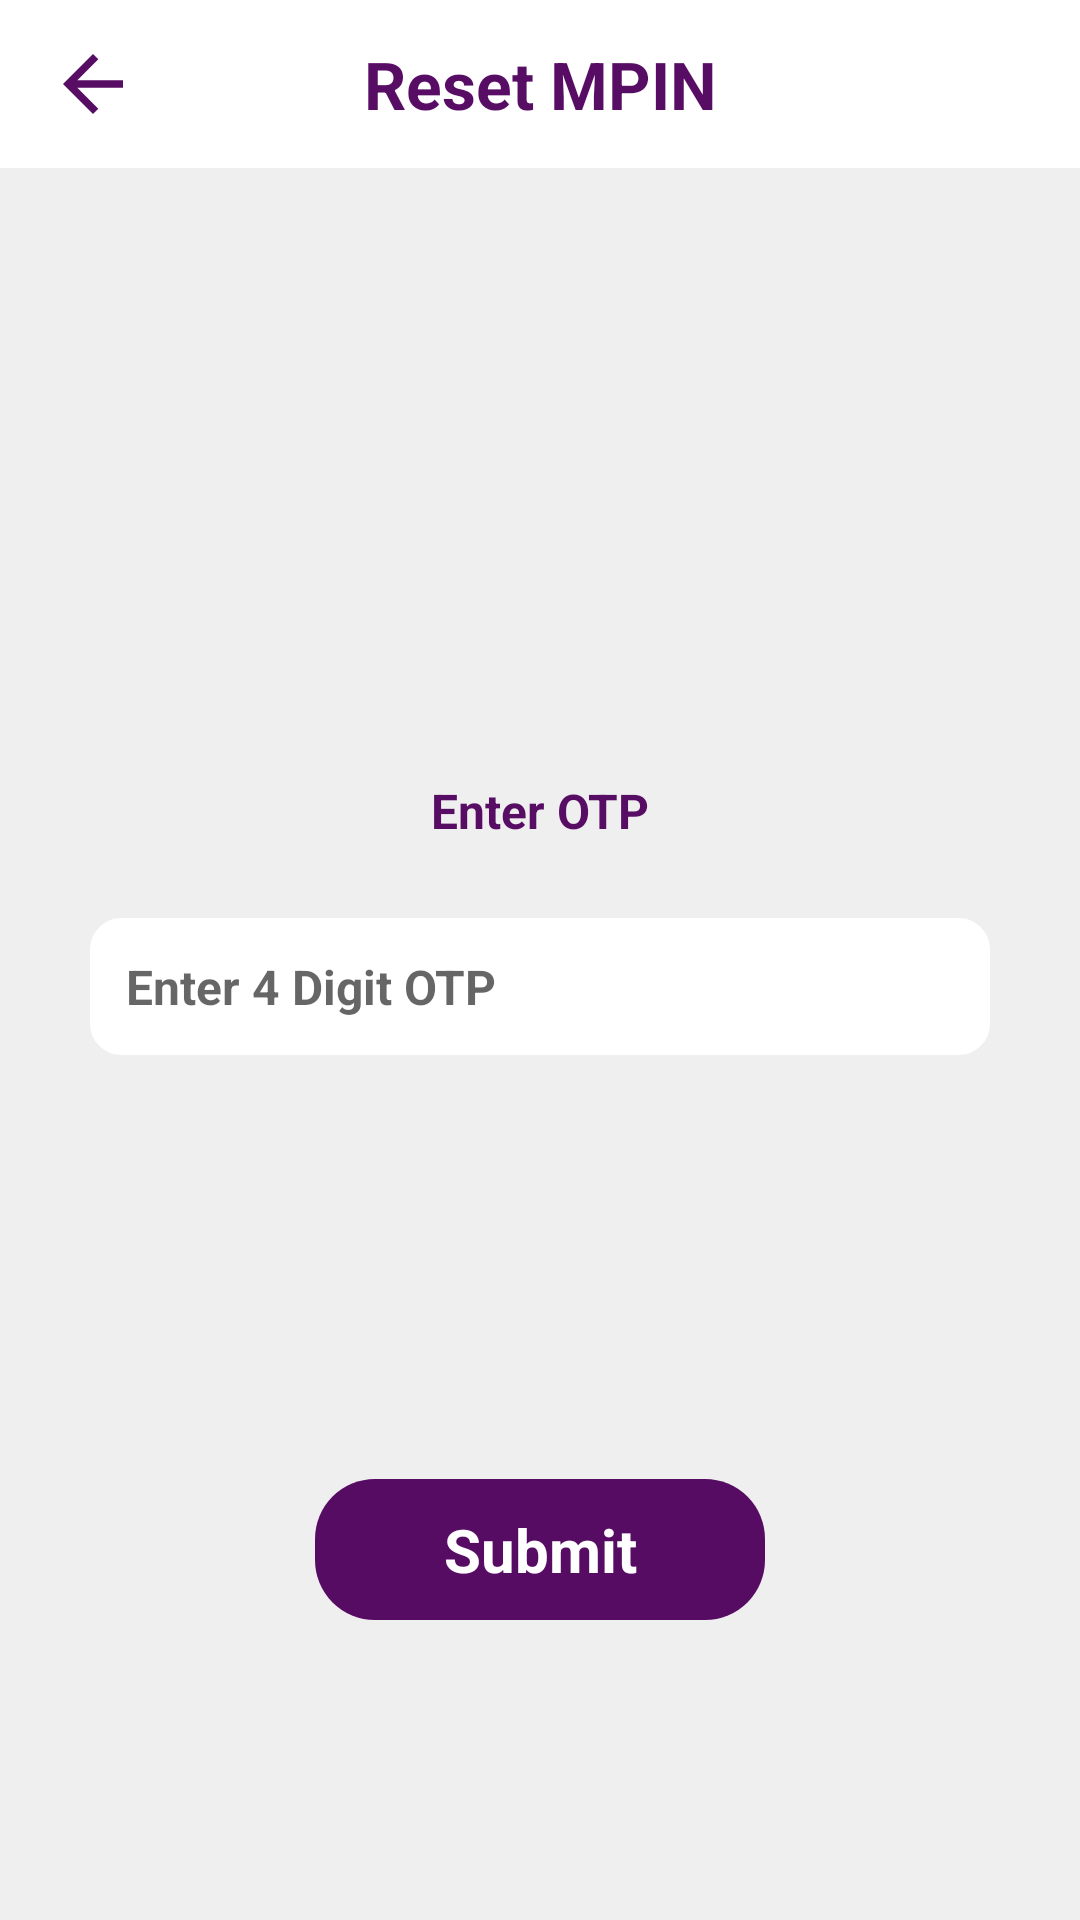

Named icons in this screenshot (1080 x 1920) and their bounding boxes, (x1, y1, x2, y2):
back: (63, 54, 123, 114)
